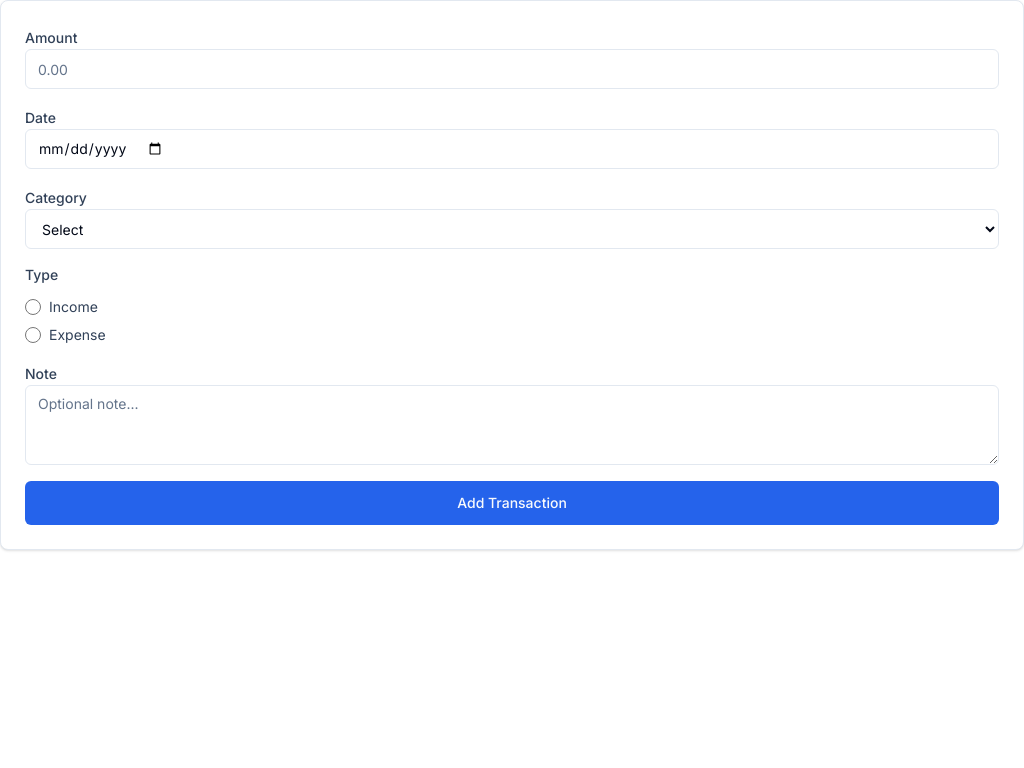
Scenario: AddTransactionForm API Integration › resets form after successful submission
Type "100" into the number field labelled "Amount" at (512, 69), box top-left (25, 49), bottom-right (999, 89)
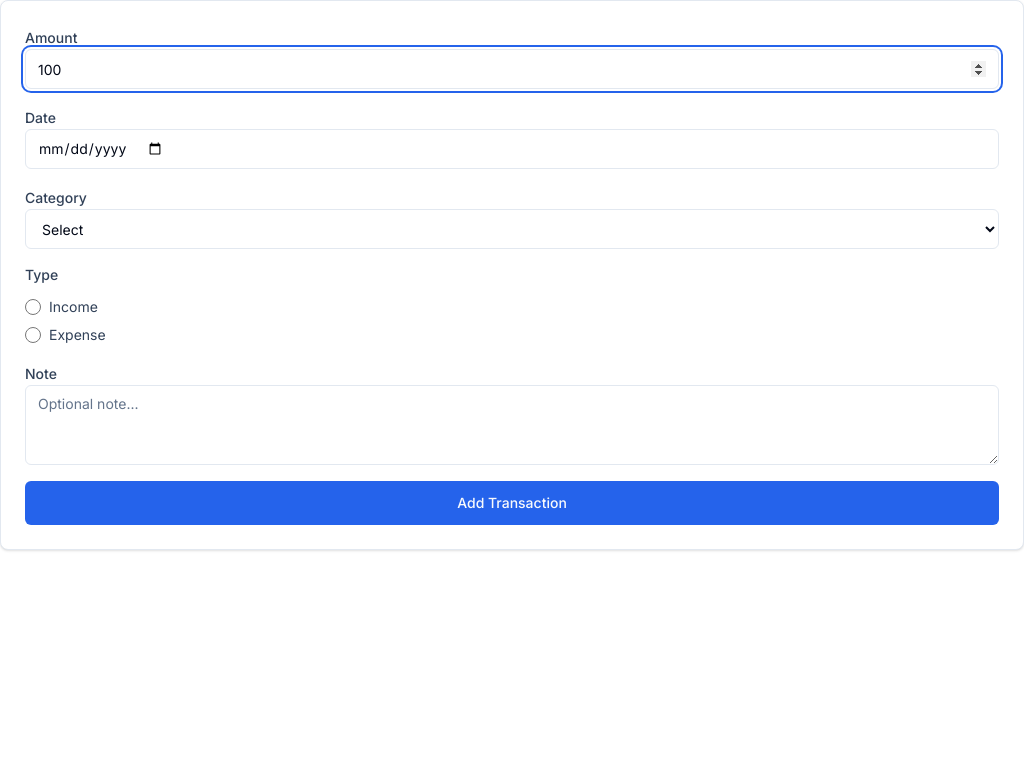
Type "2025-08-15" into the date field labelled "Date" at (512, 149), box top-left (25, 129), bottom-right (999, 169)
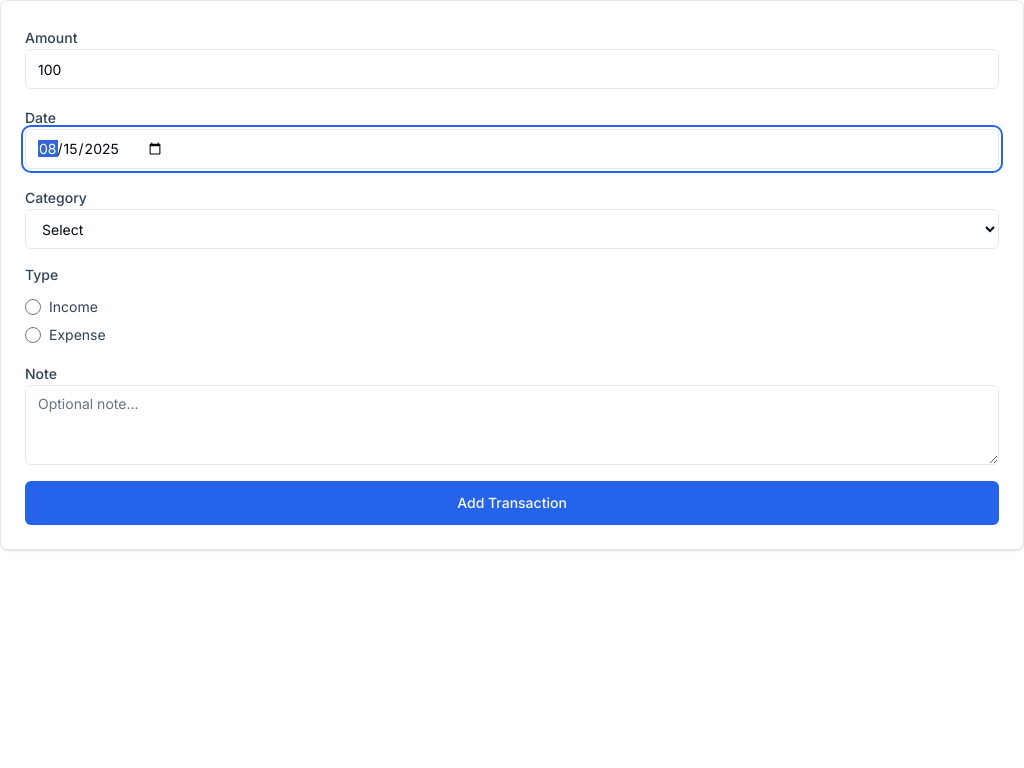
Select "General" in the dropdown labelled "Category" at (512, 229), box top-left (25, 209), bottom-right (999, 249)
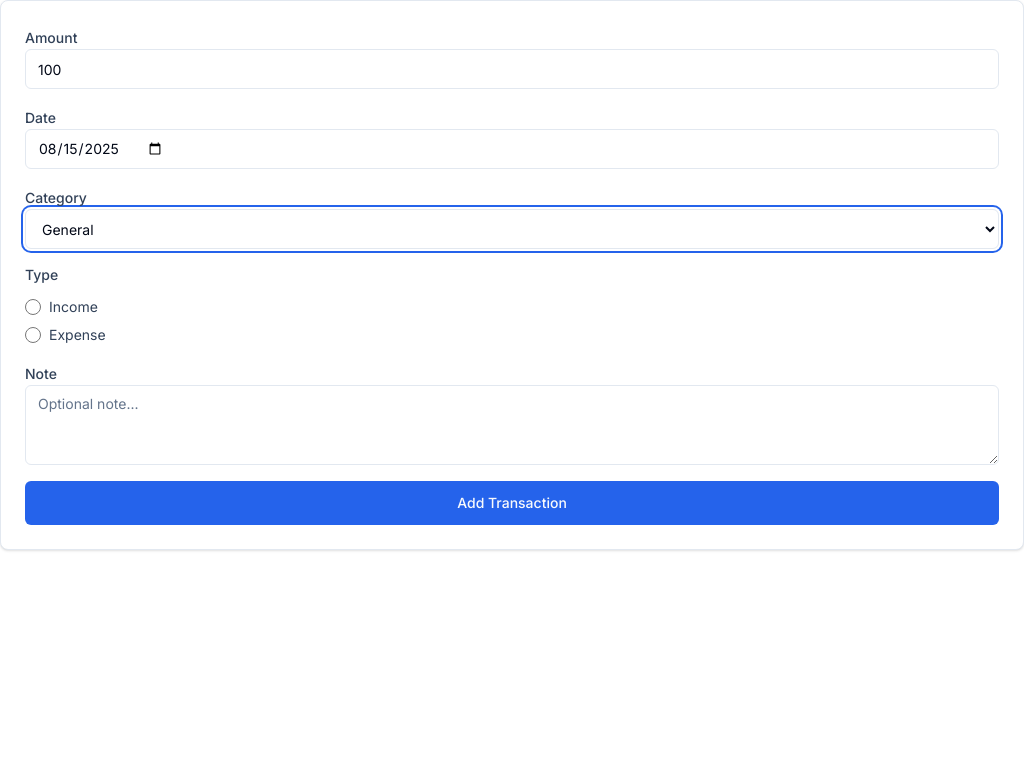
Click the radio button labelled "Income" at (33, 307), box top-left (25, 299), bottom-right (41, 315)
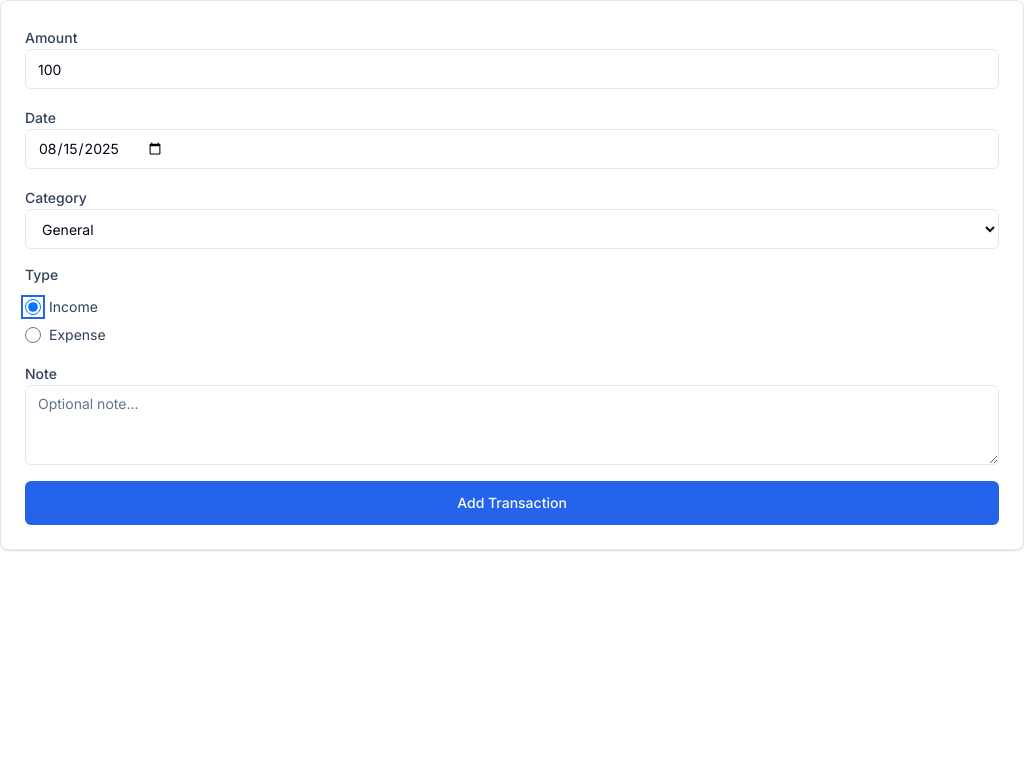
Type "Test note" into the text box labelled "Note" at (512, 425), box top-left (25, 385), bottom-right (999, 465)
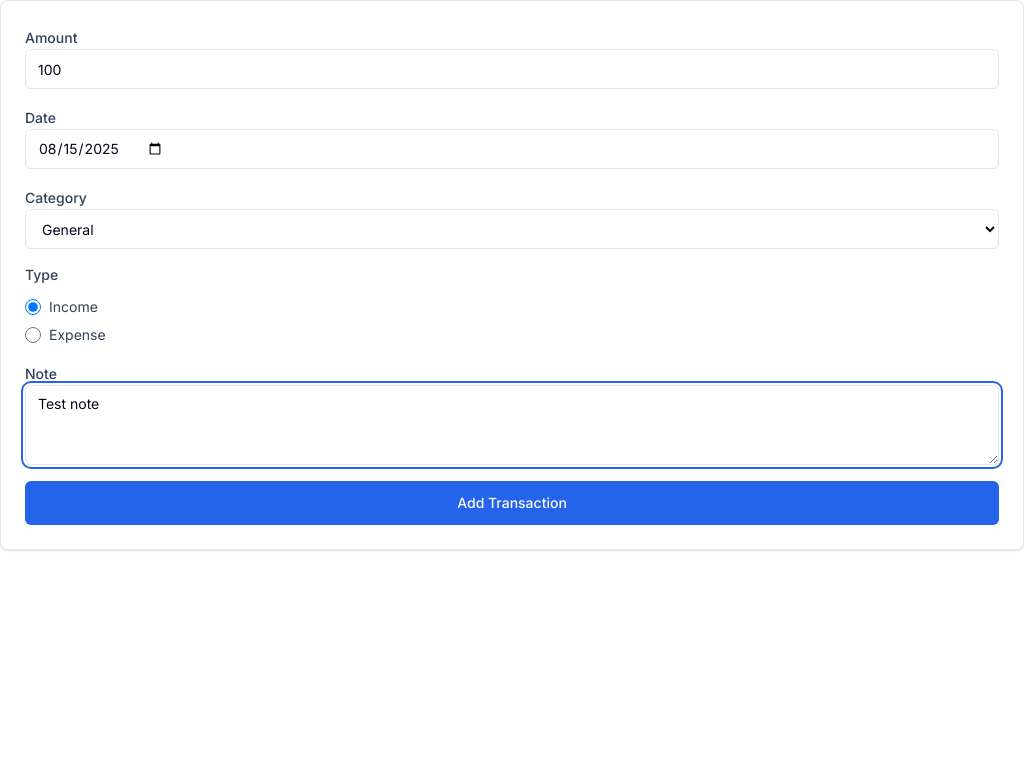
# Submit the form
Click the button "Add Transaction" at (512, 503), box top-left (25, 481), bottom-right (999, 525)
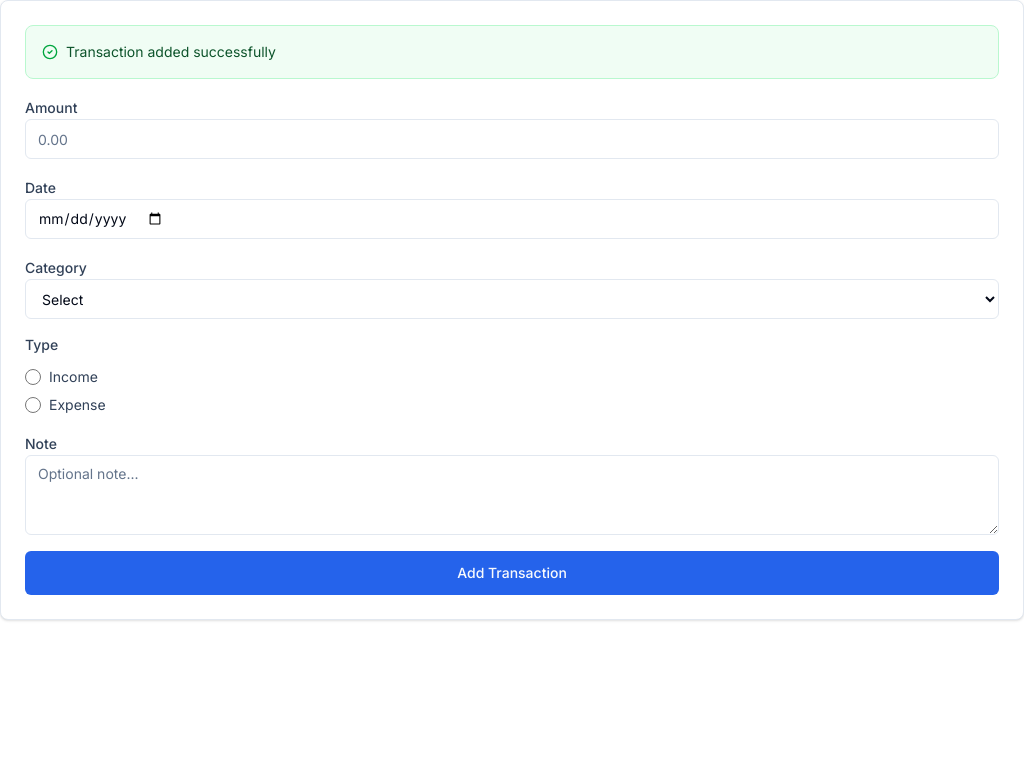
Now the number field labelled "Amount" is not empty, box top-left (25, 119), bottom-right (999, 159)
Now the date field labelled "Date" is empty, box top-left (25, 199), bottom-right (999, 239)
Now the text box labelled "Note" is empty, box top-left (25, 455), bottom-right (999, 535)
